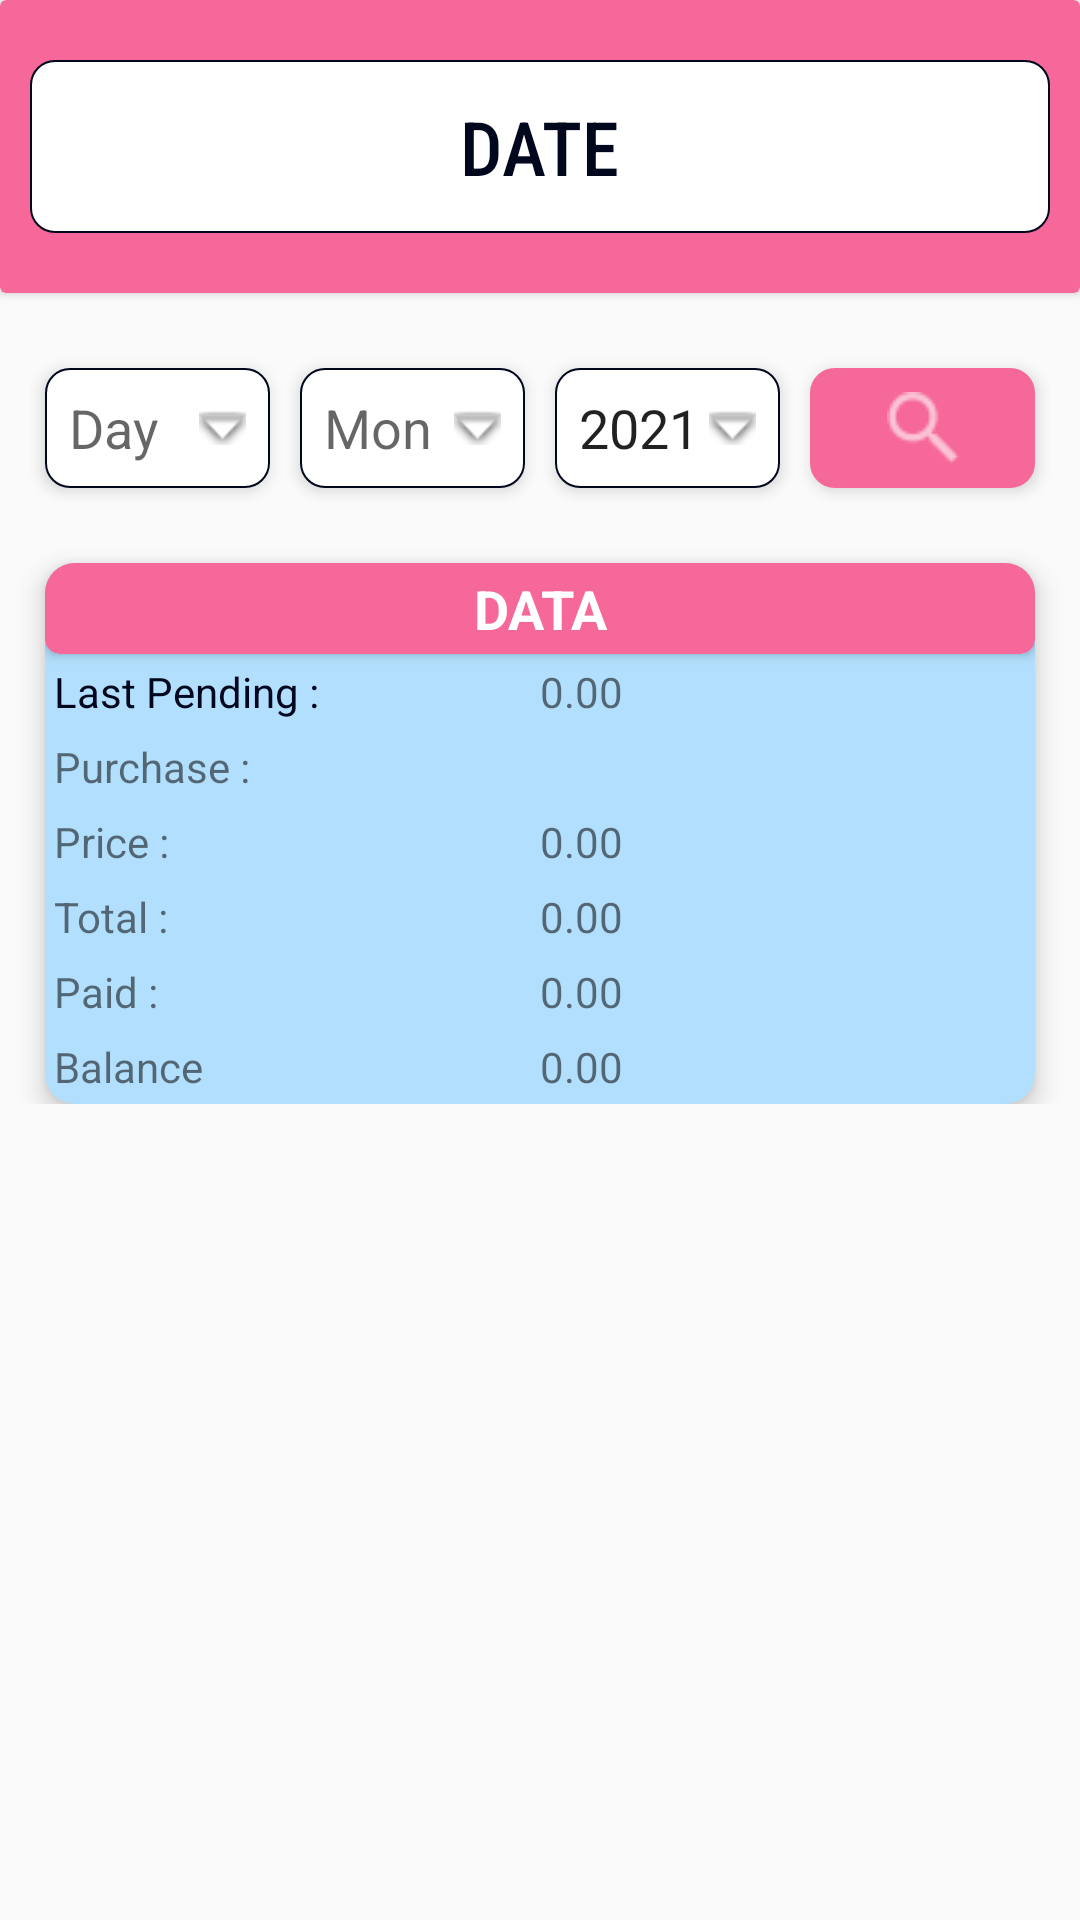

Where to tap for icons on this 1080×1920 app screen, as point (x, y):
searchicon: point (922, 428)
